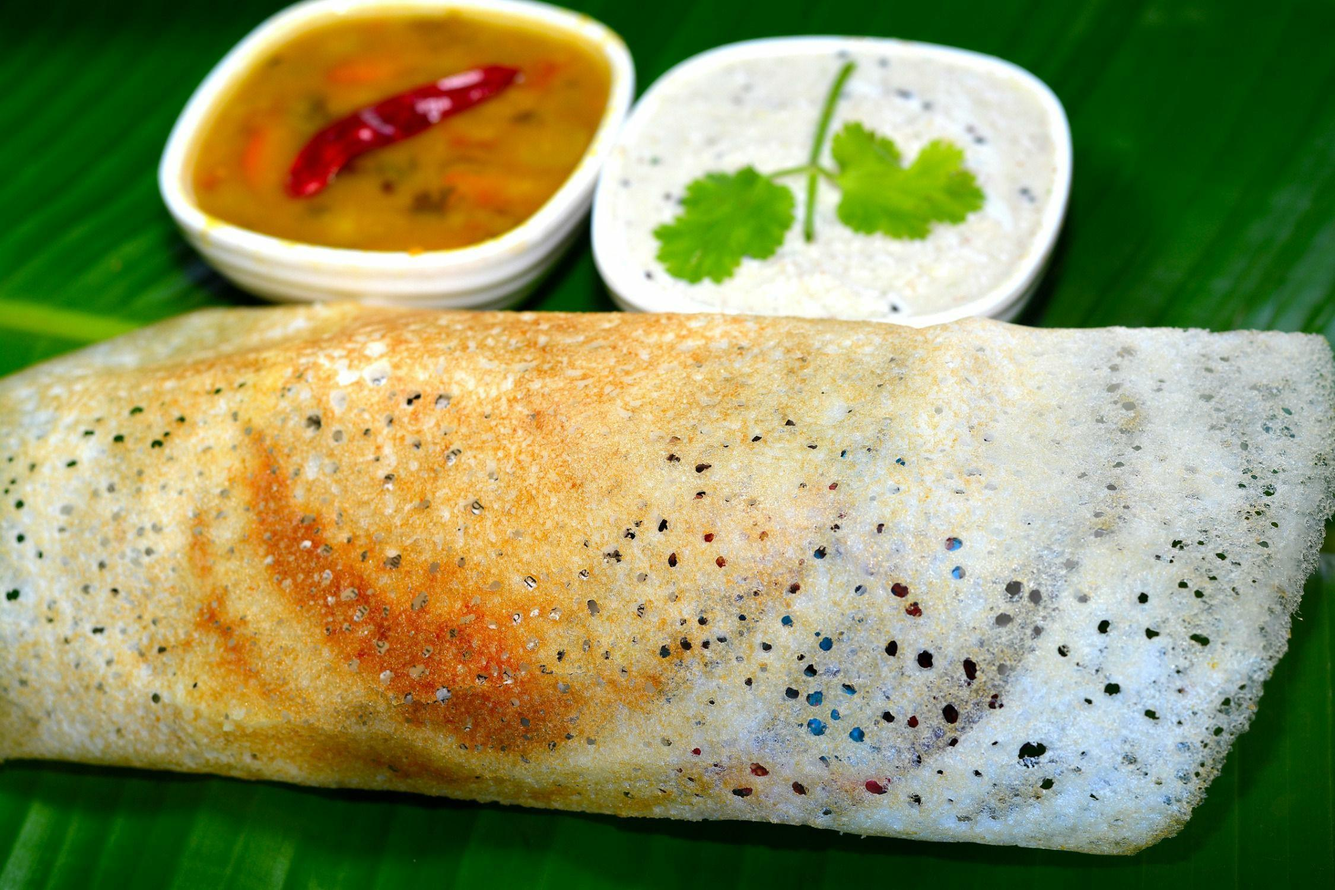CoconutChutney: (615, 46, 1049, 312)
Dosa: (0, 306, 1335, 854)
